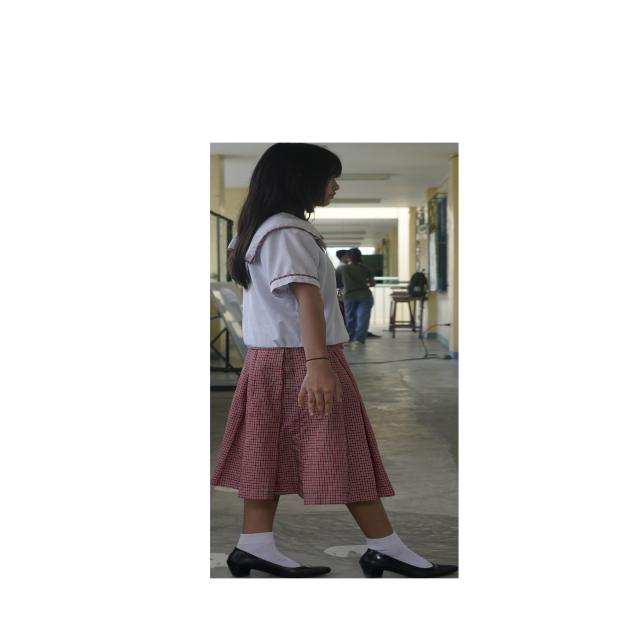pologirl: (243, 213, 348, 348)
shoes: (226, 548, 331, 578), (359, 549, 458, 578)
skirt: (211, 345, 394, 504)
